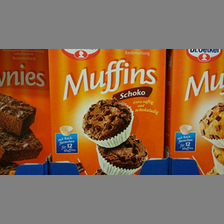cake: (49, 49, 165, 172), (169, 50, 224, 173), (1, 49, 48, 168)
